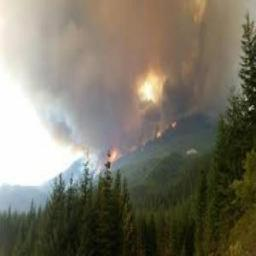Heavy smoke: (6, 2, 251, 164)
Medium fire: (132, 65, 169, 110)
Small fire: (106, 146, 118, 167)
